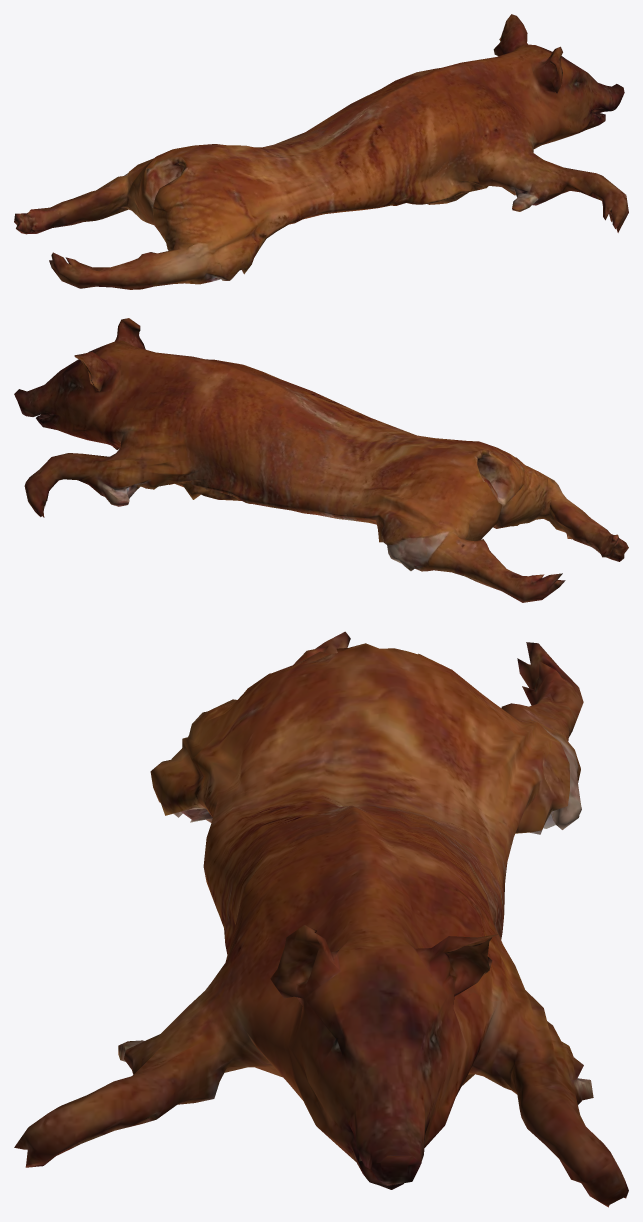
Rendered from roast_pig.glb.
3 views of the same model, one above another, from view 1: azimuth 30°, elevation 25°; view 2: azimuth 150°, elevation 25°; view 3: azimuth 270°, elevation 25° (orthographic). The views are drawn at different scales.
Parts seen in each view (by area): view 1: wdzmcjeaa_LOD0_TIER2_000; view 2: wdzmcjeaa_LOD0_TIER2_000; view 3: wdzmcjeaa_LOD0_TIER2_000.
Boxes of the visible parts, box(x1,y1,x2,y2) form: wdzmcjeaa_LOD0_TIER2_000: box(14, 14, 628, 289); wdzmcjeaa_LOD0_TIER2_000: box(14, 318, 628, 602); wdzmcjeaa_LOD0_TIER2_000: box(14, 631, 628, 1207).
Bounding box in the file's own units: 1.15 × 0.2666 × 0.5361.
Materials: 1 (1 with a texture image).
